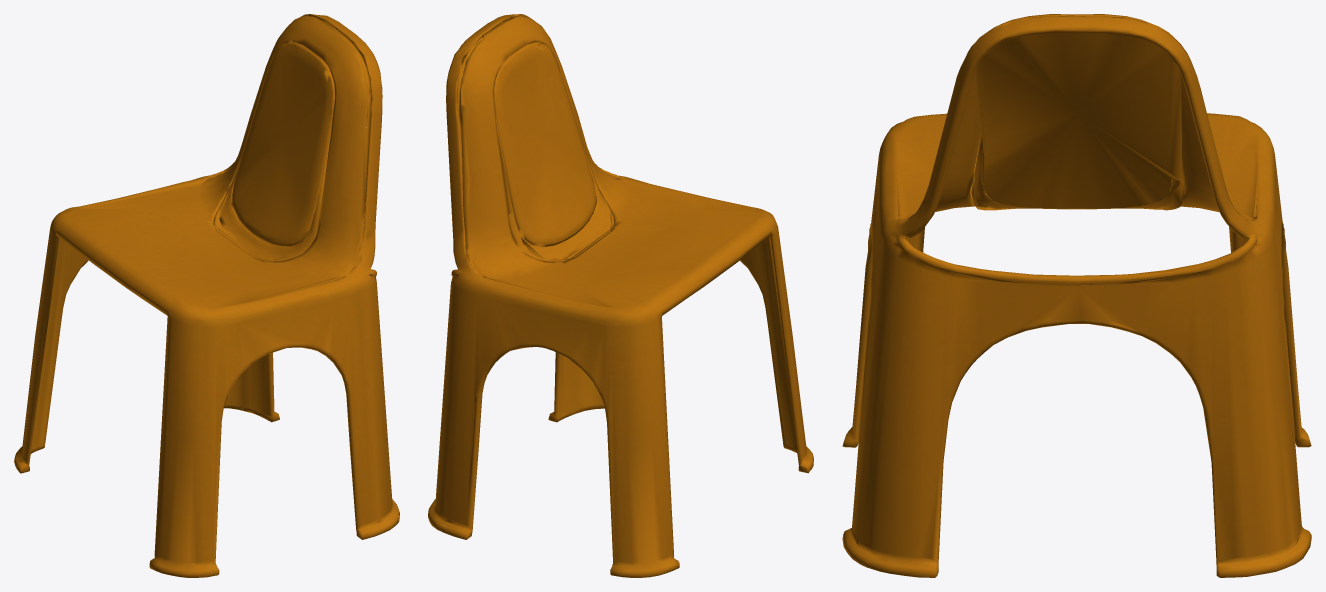
The picture shows the model from 3 angles, left to right: view 1: azimuth 30°, elevation 25°; view 2: azimuth 150°, elevation 25°; view 3: azimuth 270°, elevation 25°; orthographic projection. The views are drawn at different scales.
Parts seen in each view (by area): view 1: tripo_node_3b6f9c11-10a4-4f31-8579-3a0140a38d53; view 2: tripo_node_3b6f9c11-10a4-4f31-8579-3a0140a38d53; view 3: tripo_node_3b6f9c11-10a4-4f31-8579-3a0140a38d53.
Boxes of the visible parts, x1,y1,x2,y2 form: tripo_node_3b6f9c11-10a4-4f31-8579-3a0140a38d53: (14,14,399,577); tripo_node_3b6f9c11-10a4-4f31-8579-3a0140a38d53: (428,14,813,577); tripo_node_3b6f9c11-10a4-4f31-8579-3a0140a38d53: (842,14,1311,577).
Size of the model in its own units: 0.6387 by 0.998 by 0.7519.
1 material, 1 textured.
